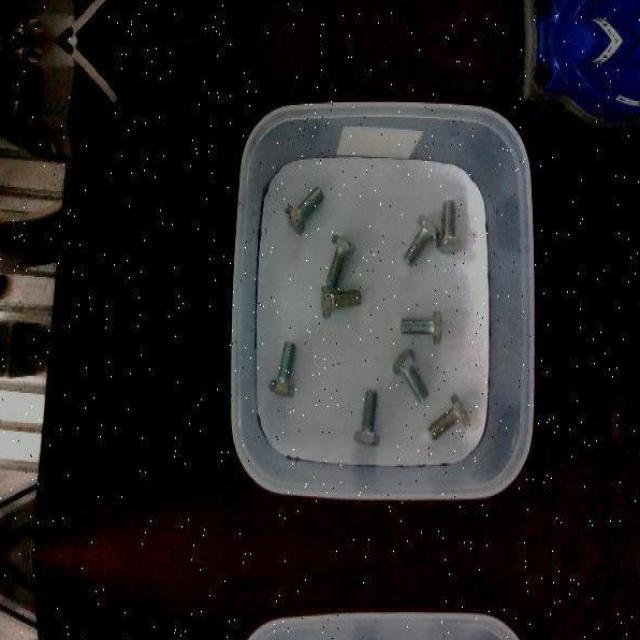screw: (426, 392, 469, 441), (392, 347, 428, 401), (285, 186, 324, 234), (404, 212, 439, 264), (268, 340, 296, 398), (326, 234, 354, 290), (353, 389, 379, 446), (436, 198, 462, 254), (401, 309, 442, 344), (319, 286, 360, 317)
